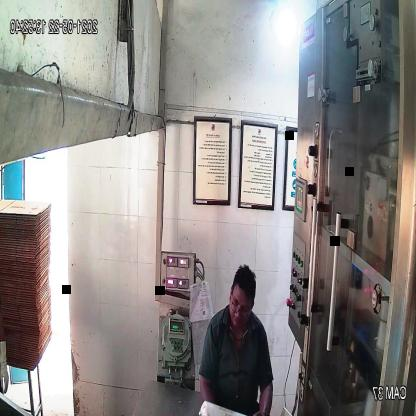goggles: (229, 292, 255, 323)
